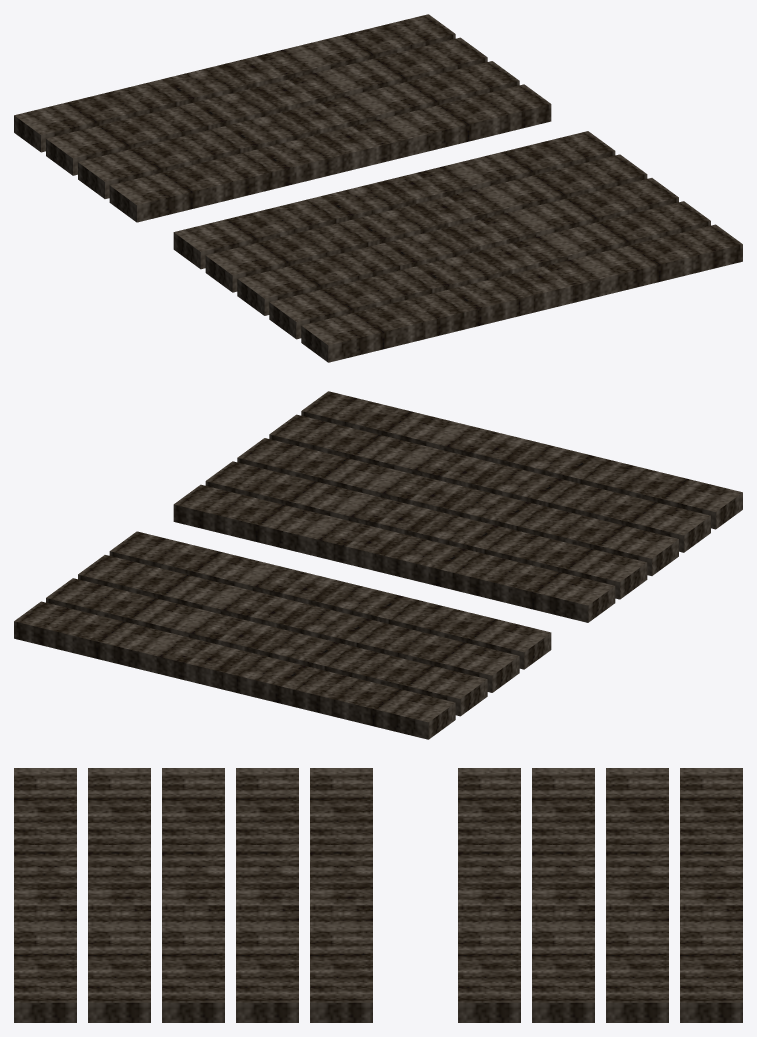
Rendered from ENV_F_BrokenPlanks.fbx.
3 renders of one model, top to bottom at view 1: azimuth 30°, elevation 25°; view 2: azimuth 150°, elevation 25°; view 3: azimuth 270°, elevation 25°, orthographic. The views are drawn at different scales.
Visible parts, largest first — view 1: PH03_ENV_F_BrokenPlanks; view 2: PH03_ENV_F_BrokenPlanks; view 3: PH03_ENV_F_BrokenPlanks.
Part boxes in pixels (bbox=[...]): PH03_ENV_F_BrokenPlanks: bbox=[14, 14, 742, 362]; PH03_ENV_F_BrokenPlanks: bbox=[14, 391, 742, 739]; PH03_ENV_F_BrokenPlanks: bbox=[14, 768, 742, 1022].
Bounding box in the file's own units: 300 × 12 × 394.
Materials: 1 (1 with a texture image).
